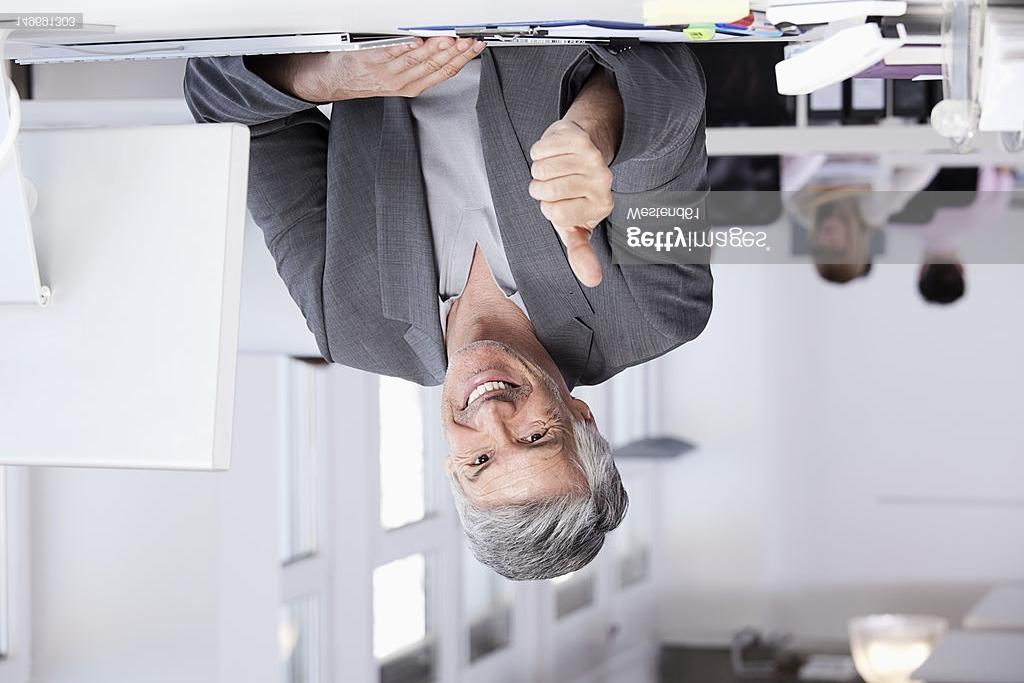thumbsdown: (528, 131, 615, 288)
